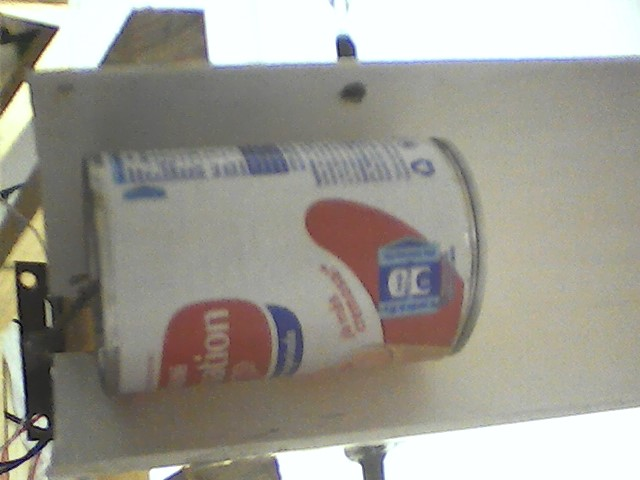lata: (70, 133, 491, 407)
